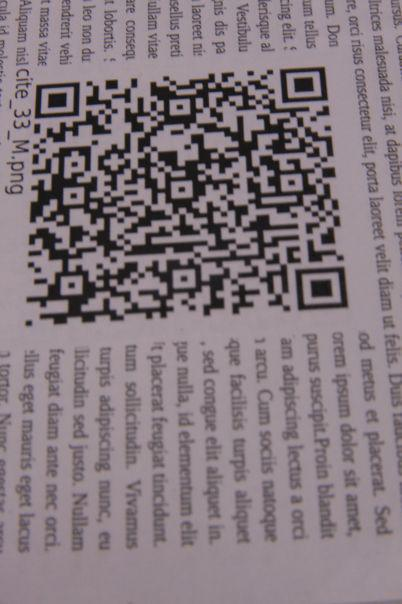Finder pattern: (292, 263, 352, 315), (275, 62, 332, 109), (30, 81, 88, 120)
